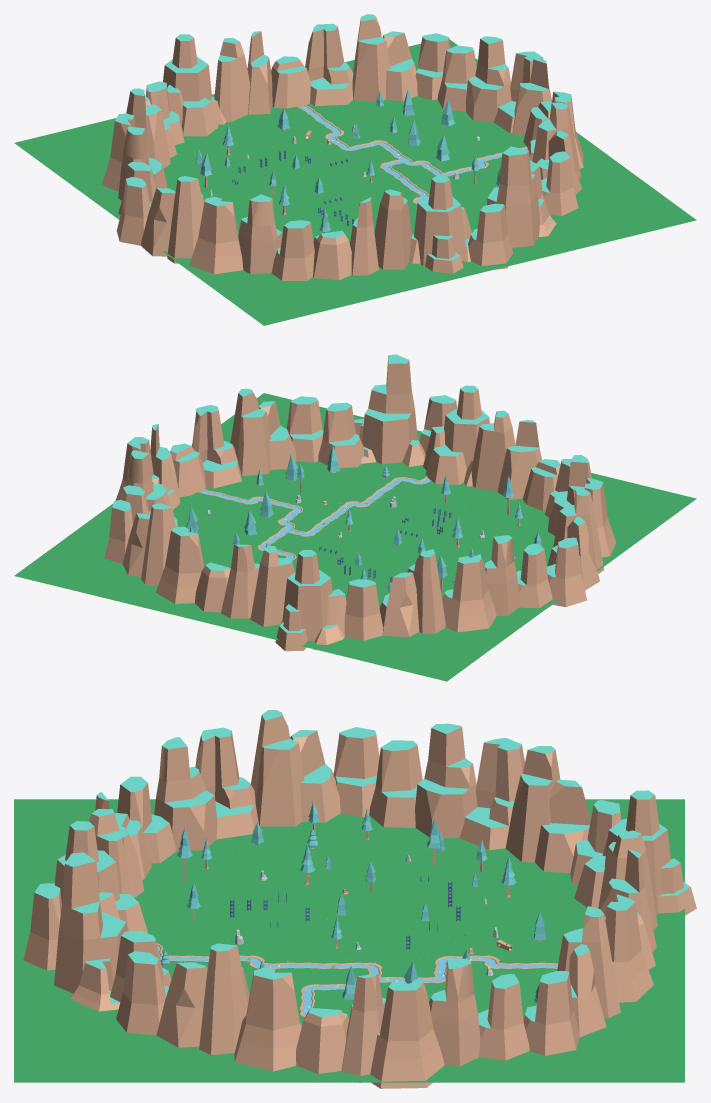
Rendered from decorations.glb.
The picture shows the model from 3 angles, top to bottom: view 1: azimuth 30°, elevation 25°; view 2: azimuth 150°, elevation 25°; view 3: azimuth 270°, elevation 25°; orthographic projection. The views are drawn at different scales.
Visible parts, largest first — view 1: rock_tallB, rock_tallB.001, rock_tallA, rock_tallH.002, rock_tallH, rock_tallG.002, rock_tallG, rock_tallI.002, rock_tallC, rock_tallC.001, rock_tallI, rock_tallF.003 (+22 smaller); view 2: rock_tallA, rock_tallB.001, rock_tallB, rock_tallH.001, rock_tallI.003, rock_tallH.002, rock_tallH.004, rock_tallC, rock_tallC.001, rock_tallF.009, rock_tallG.001, rock_tallI.001 (+24 smaller); view 3: rock_tallA, rock_tallH.003, rock_tallB.001, rock_tallH.004, rock_tallG.001, rock_tallI, rock_tallG, rock_tallH.001, rock_tallH, rock_tallI.003, rock_tallG.002, rock_tallI.001 (+23 smaller).
Boxes of the visible parts, x1=… form: rock_tallB: x1=409, y1=175, x2=471, y2=273; rock_tallB.001: x1=163, y1=34, x2=226, y2=136; rock_tallA: x1=476, y1=146, x2=556, y2=247; rock_tallH.002: x1=305, y1=23, x2=353, y2=106; rock_tallH: x1=189, y1=196, x2=243, y2=274; rock_tallG.002: x1=466, y1=36, x2=511, y2=122; rock_tallG: x1=238, y1=194, x2=282, y2=273; rock_tallI.002: x1=352, y1=14, x2=390, y2=101; rock_tallC: x1=374, y1=189, x2=412, y2=269; rock_tallC.001: x1=214, y1=38, x2=249, y2=122; rock_tallI: x1=167, y1=176, x2=204, y2=263; rock_tallF.003: x1=468, y1=203, x2=513, y2=269; rock_tallA: x1=354, y1=354, x2=425, y2=466; rock_tallB.001: x1=275, y1=550, x2=346, y2=651; rock_tallB: x1=423, y1=385, x2=489, y2=486; rock_tallH.001: x1=442, y1=554, x2=496, y2=632; rock_tallI.003: x1=230, y1=388, x2=271, y2=475; rock_tallH.002: x1=155, y1=526, x2=203, y2=603; rock_tallH.004: x1=191, y1=405, x2=241, y2=488; rock_tallC: x1=471, y1=410, x2=515, y2=491; rock_tallC.001: x1=250, y1=545, x2=294, y2=626; rock_tallF.009: x1=318, y1=402, x2=364, y2=468; rock_tallG.001: x1=484, y1=535, x2=518, y2=615; rock_tallI.001: x1=407, y1=549, x2=445, y2=633; rock_tallA: x1=54, y1=852, x2=127, y2=1011; rock_tallH.003: x1=370, y1=980, x2=444, y2=1088; rock_tallB.001: x1=574, y1=790, x2=696, y2=915; rock_tallH.004: x1=234, y1=967, x2=302, y2=1071; rock_tallG.001: x1=415, y1=723, x2=477, y2=838; rock_tallI: x1=251, y1=710, x2=304, y2=826; rock_tallG: x1=154, y1=737, x2=217, y2=851; rock_tallH.001: x1=459, y1=738, x2=524, y2=850; rock_tallH: x1=195, y1=727, x2=258, y2=839; rock_tallI.003: x1=199, y1=943, x2=249, y2=1054; rock_tallG.002: x1=429, y1=958, x2=480, y2=1066; rock_tallI.001: x1=505, y1=746, x2=560, y2=862.
Bounding box in the file's own units: 166 × 33.25 × 163.
Materials: 110 (1 with a texture image).
